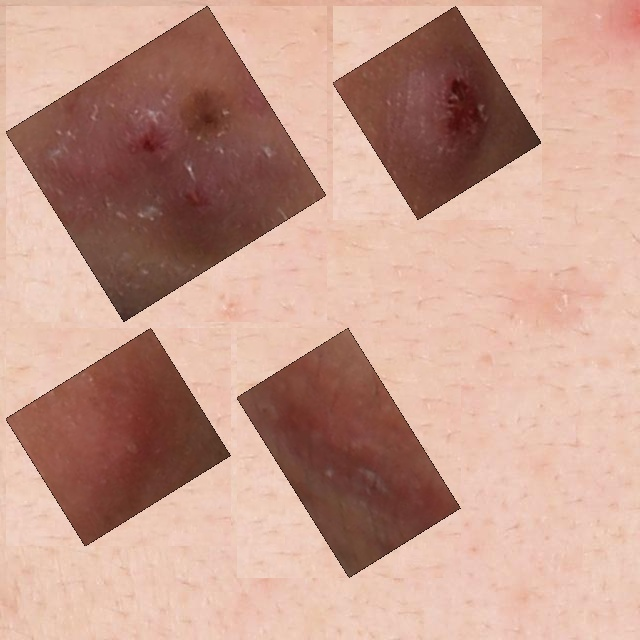nodule: (17, 17, 315, 310), (248, 339, 449, 566), (17, 339, 219, 535), (344, 17, 530, 208)
